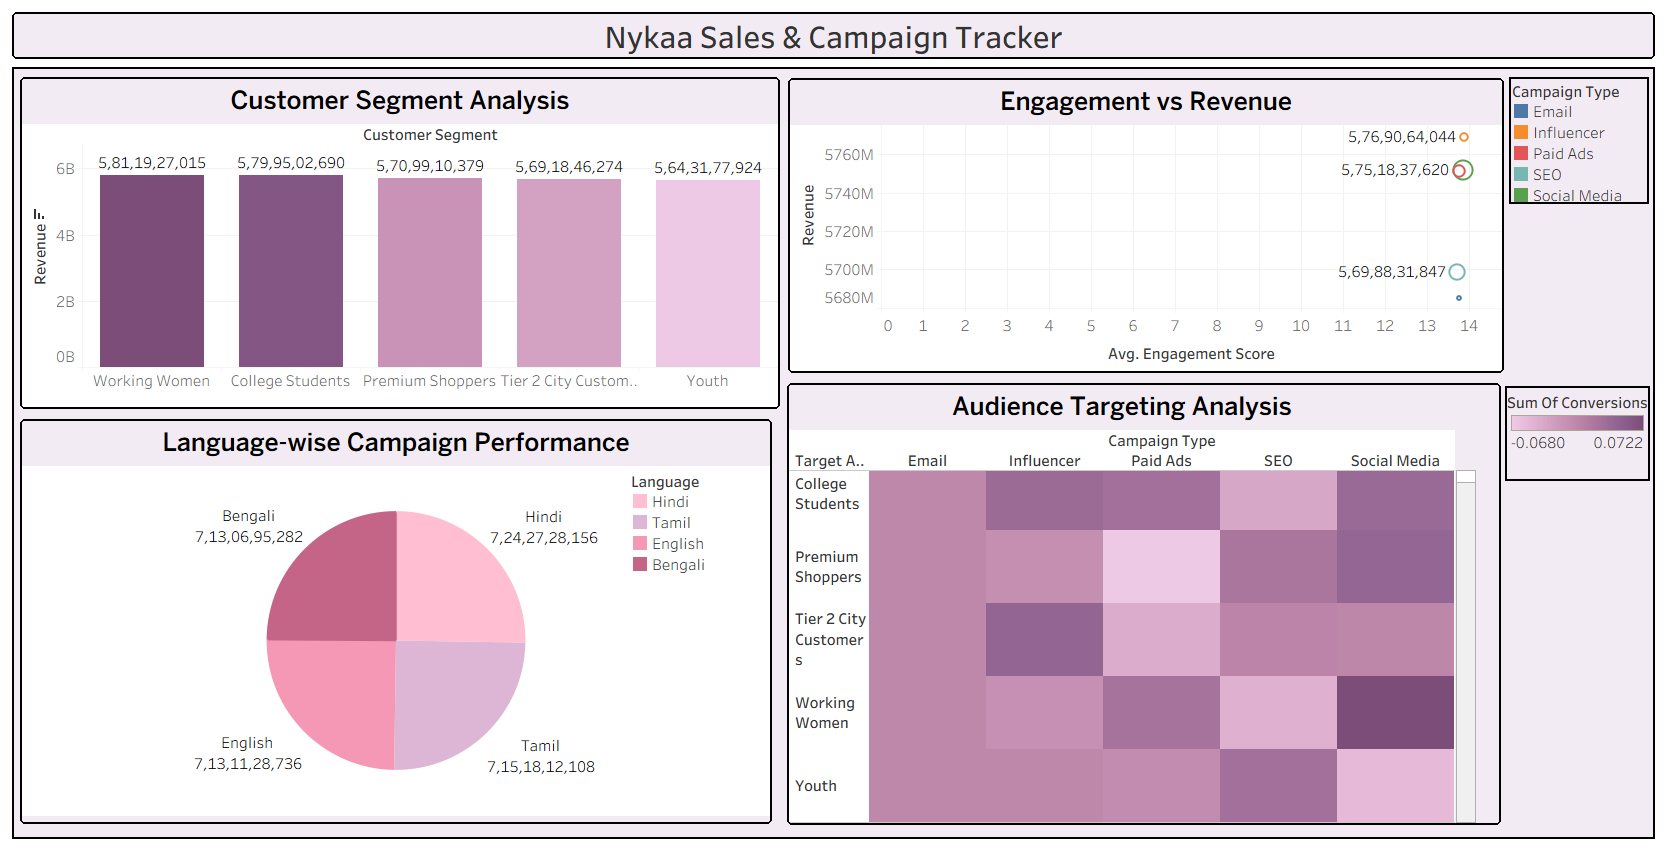

This screenshot's page, from the dashboard's own definition file:
{"tool":"tableau","page":{"name":"Customer & Engagement Analysis","canvas":[1667,851],"ordinal":1},"visuals":[{"type":"title","box":[8,8,1651,55]},{"type":"worksheet","title":"Customer Segment Analysis","mark":"Automatic","rows":["Revenue"],"cols":["Customer_Segment"],"box":[20,77,760,332]},{"type":"legend","title":"Engagement vs Revenue","param":"[federated.0dbzb550hmlti41asscz91iqgi02].[none:Campaign_Type:nk]","box":[1509,77,140,127]},{"type":"worksheet","title":"Engagement vs Revenue","mark":"Automatic","rows":["Revenue"],"cols":["Engagement_Score"],"box":[788,78,716,295]},{"type":"worksheet","title":"Audience Targeting Analysis","mark":"Automatic","rows":["Target_Audience"],"cols":["Campaign_Type"],"box":[787,383,714,442]},{"type":"legend","title":"Audience Targeting Analysis","param":"[federated.0dbzb550hmlti41asscz91iqgi02].[usr:Calculation_1817767685611532:qk]","box":[1505,386,145,95]},{"type":"worksheet","title":"Language-wise Campaign Performance","mark":"Pie","box":[20,419,752,405]},{"type":"legend","title":"Language-wise Campaign Performance","param":"[federated.0dbzb550hmlti41asscz91iqgi02].[none:Language:nk]","box":[630,469,140,123]}]}

Visuals, with their boxes in screenshot pixels (x1, y1, x2, y2), scaled from the page's 1667x851 canvas onto the 1667x851 screenshot:
title: 8:8:1659:63
"Customer Segment Analysis" worksheet: 20:77:780:409
"Engagement vs Revenue" legend: 1509:77:1649:204
"Engagement vs Revenue" worksheet: 788:78:1504:373
"Audience Targeting Analysis" worksheet: 787:383:1501:825
"Audience Targeting Analysis" legend: 1505:386:1650:481
"Language-wise Campaign Performance" worksheet (Pie marks): 20:419:772:824
"Language-wise Campaign Performance" legend: 630:469:770:592
